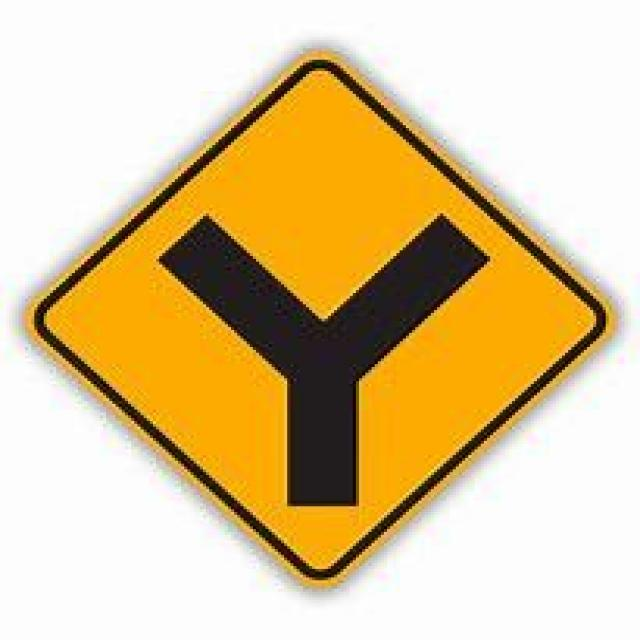Y_INTERSECTION: (19, 42, 615, 588)
